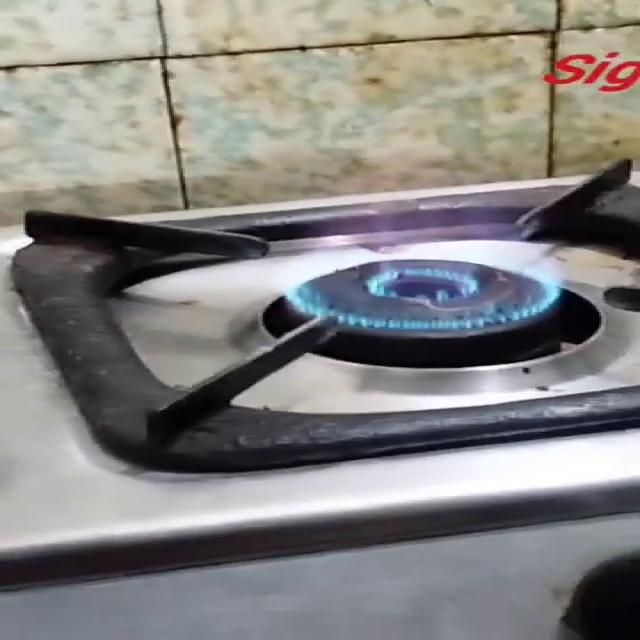fire: (181, 161, 588, 364)
